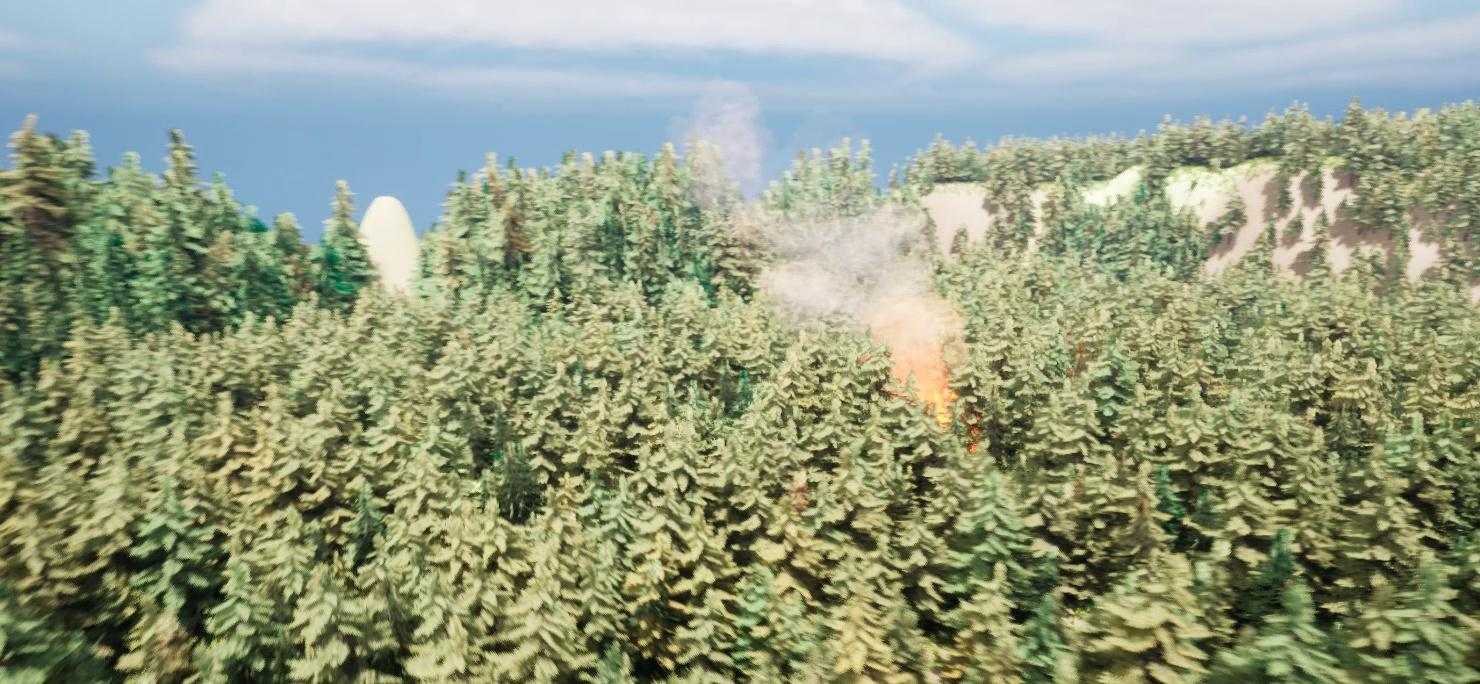smoke: (693, 81, 988, 419)
